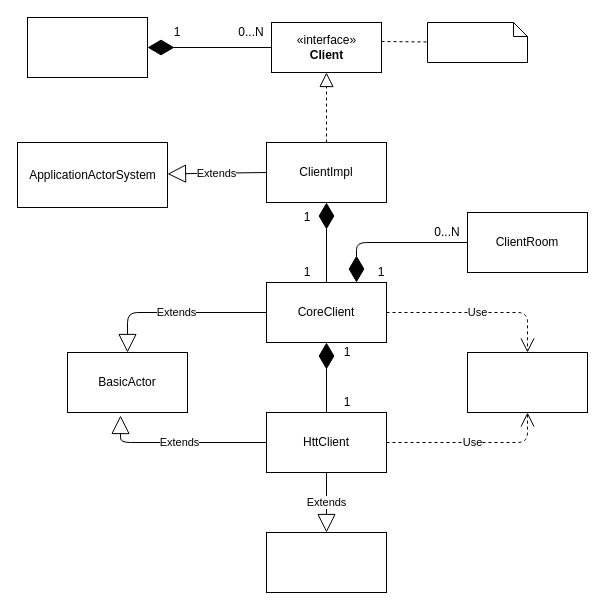
Image size: 605x610. Some labels were removed from this diagram. The shapes that lost their labels are listed below. From the top down, each one's centre as x and y in pixels, then its label:
the point at 87,47: ClientStub
the point at 477,42: Client facade
the point at 527,382: MessageDictionary
the point at 326,562: RoomJsonSupport
